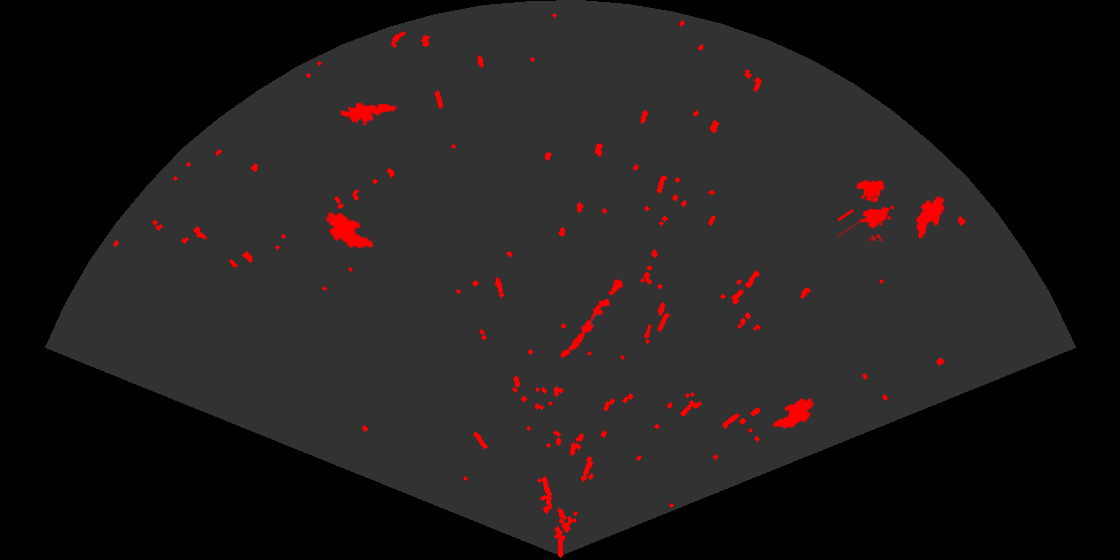AUV: (324, 210, 375, 251), (771, 397, 816, 430), (914, 194, 946, 240)
cage: (838, 178, 896, 241)
chain: (559, 277, 625, 359)
frogman: (341, 101, 398, 127)
